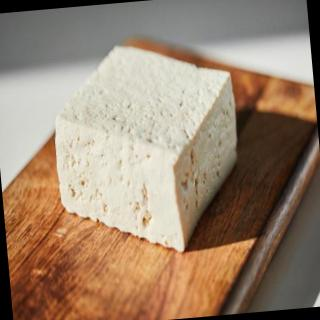Tahu: (30, 30, 271, 265)
